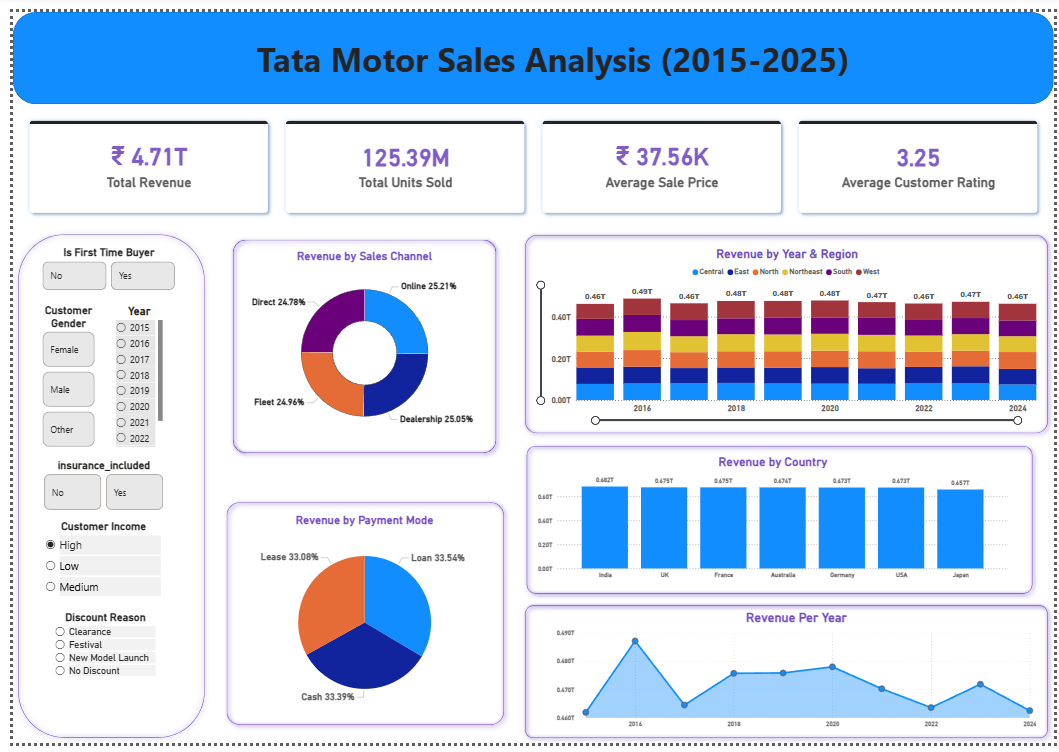

Layout of this report page (visuals, bound fields, positions):
{"tool":"powerbi","page":{"name":"Page 1","canvas":[1850,1300],"ordinal":0},"visuals":[{"type":"cardVisual","fields":{"Data":["tata_motors_sales.Total Revenue","tata_motors_sales.Total Units Sold","tata_motors_sales.Average Sale Price","tata_motors_sales.Average Customer Rating"]},"box":[0,163.9,1850,222.2],"z":0},{"type":"shape","box":[0,0,1850,163.9],"z":1000},{"type":"textbox","box":[427.8,38.9,1172.2,102.8],"z":2000},{"type":"shape","box":[0,386.7,350,913.3],"z":12000},{"type":"listSlicer","title":"Year","fields":{"Values":["tata_motors_sales.year"]},"box":[176.7,520,93.3,260],"z":12031},{"type":"advancedSlicerVisual","fields":{"Values":["tata_motors_sales.customer_gender"]},"box":[46.7,520,103.3,260],"z":12062},{"type":"advancedSlicerVisual","fields":{"Values":["tata_motors_sales.is_first_time_buyer"]},"box":[46.7,416.7,246.7,83.3],"z":12125},{"type":"listSlicer","fields":{"Values":["tata_motors_sales.customer_income_group"]},"box":[53.3,903.3,216.7,330],"z":12250},{"type":"listSlicer","title":"Discount Reason","fields":{"Values":["tata_motors_sales.discount_reason"]},"box":[70,1063.3,190,216.7],"z":12500},{"type":"advancedSlicerVisual","fields":{"Values":["tata_motors_sales.insurance_included"]},"box":[50,793.3,223.3,96.7],"z":13000},{"type":"shape","box":[900,386.7,950,373.3],"z":14000},{"type":"columnChart","title":"Revenue by Year & Region","fields":{"Y":["tata_motors_sales.Total Revenue"],"Category":["tata_motors_sales.year"],"Series":["tata_motors_sales.region"]},"box":[926.7,416.7,896.7,320],"z":14500},{"type":"shape","box":[903.3,760,920,283.3],"z":15000},{"type":"columnChart","title":"Revenue by Country","fields":{"Y":["tata_motors_sales.Total Revenue"],"Category":["tata_motors_sales.country"]},"box":[926.7,786.7,846.7,230],"z":15500},{"type":"shape","box":[380.6,394.4,488.9,400],"z":16000},{"type":"donutChart","title":"Revenue by Sales Channel","fields":{"Category":["tata_motors_sales.sales_channel"],"Y":["tata_motors_sales.Total Revenue"]},"box":[405.6,422.2,438.9,344.4],"z":16500},{"type":"shape","box":[900,1043.3,950,256.7],"z":17000},{"type":"lineChart","title":"Revenue Per Year","fields":{"Y":["tata_motors_sales.Total Revenue"],"Category":["tata_motors_sales.year"]},"box":[960,1063.3,863.3,216.7],"z":17500},{"type":"shape","box":[369.4,861.1,513.9,416.7],"z":18000},{"type":"pieChart","title":" Revenue by Payment Mode","fields":{"Y":["tata_motors_sales.Total Revenue"],"Category":["tata_motors_sales.payment_mode"]},"box":[405.6,891.7,438.9,363.9],"z":19000}]}

Visuals, with their boxes in screenshot pixels (x1, y1, x2, y2), scaled from the page's 1850x1300 canvas onto the 1059x752 screenshot:
cardVisual - tata_motors_sales.Total Revenue x tata_motors_sales.Total Units Sold: x1=0 y1=95 x2=1058 y2=223
shape: x1=0 y1=0 x2=1058 y2=95
textbox: x1=245 y1=23 x2=916 y2=82
shape: x1=0 y1=224 x2=200 y2=751
"Year" listSlicer: x1=101 y1=301 x2=155 y2=451
advancedSlicerVisual - tata_motors_sales.customer_gender: x1=27 y1=301 x2=86 y2=451
advancedSlicerVisual - tata_motors_sales.is_first_time_buyer: x1=27 y1=241 x2=168 y2=289
listSlicer - tata_motors_sales.customer_income_group: x1=31 y1=523 x2=155 y2=713
"Discount Reason" listSlicer: x1=40 y1=615 x2=149 y2=740
advancedSlicerVisual - tata_motors_sales.insurance_included: x1=29 y1=459 x2=156 y2=515
shape: x1=515 y1=224 x2=1058 y2=440
"Revenue by Year & Region" columnChart: x1=530 y1=241 x2=1044 y2=426
shape: x1=517 y1=440 x2=1044 y2=604
"Revenue by Country" columnChart: x1=530 y1=455 x2=1015 y2=588
shape: x1=218 y1=228 x2=498 y2=460
"Revenue by Sales Channel" donutChart: x1=232 y1=244 x2=483 y2=443
shape: x1=515 y1=604 x2=1058 y2=751
"Revenue Per Year" lineChart: x1=550 y1=615 x2=1044 y2=740
shape: x1=211 y1=498 x2=506 y2=739
" Revenue by Payment Mode" pieChart: x1=232 y1=516 x2=483 y2=726
